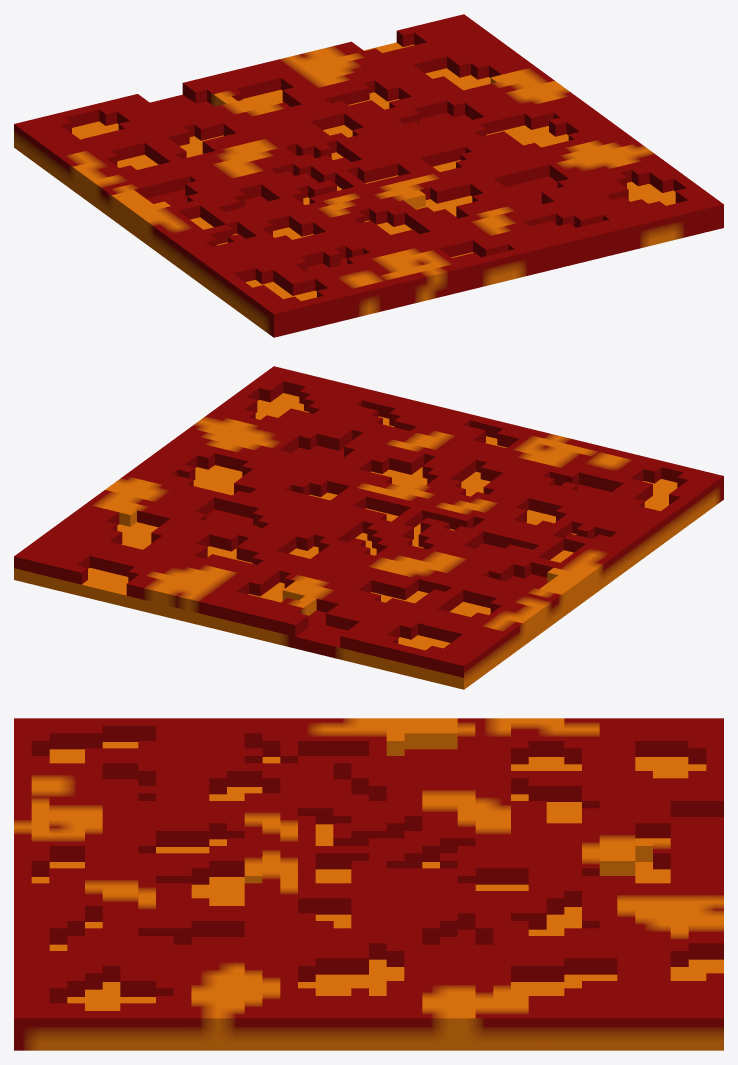
Rendered from lavafloor.fbx.
3 views of the same model, one above another, from view 1: azimuth 30°, elevation 25°; view 2: azimuth 150°, elevation 25°; view 3: azimuth 270°, elevation 25° (orthographic). The views are drawn at different scales.
Visible parts, largest first — view 1: lavafloor; view 2: lavafloor; view 3: lavafloor.
Part boxes in pixels (x1,y1,x2,y2): lavafloor: [14, 14, 723, 337]; lavafloor: [14, 366, 723, 689]; lavafloor: [14, 718, 723, 1050].
Bounding box in the file's own units: 200 × 10 × 200.
